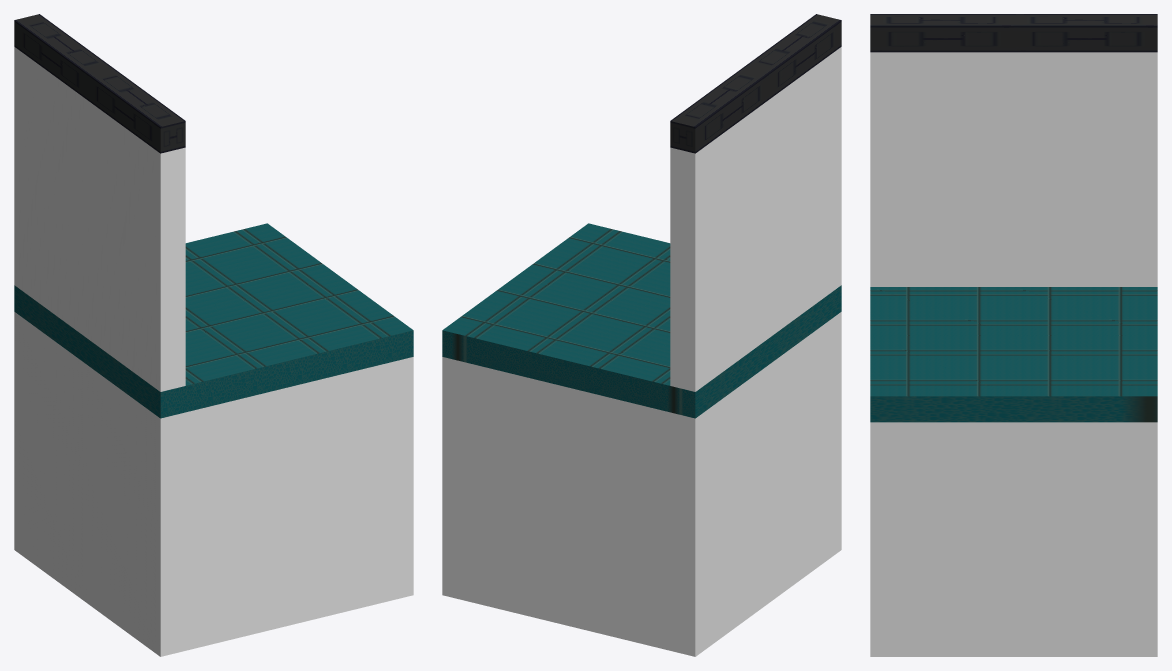
File: tiles_floor_wall_door.glb
3 renders of one model, left to right at view 1: azimuth 30°, elevation 25°; view 2: azimuth 150°, elevation 25°; view 3: azimuth 270°, elevation 25°, orthographic.
Visible parts, largest first — view 1: Floor_Wall_Door; view 2: Floor_Wall_Door; view 3: Floor_Wall_Door.
Part boxes in pixels (left/top/right/bottom): Floor_Wall_Door: left=14, top=14, right=413, bottom=656; Floor_Wall_Door: left=442, top=14, right=841, bottom=656; Floor_Wall_Door: left=870, top=14, right=1157, bottom=656.
Size of the model in its own units: 2 by 4 by 2.
4 materials, 2 textured.
